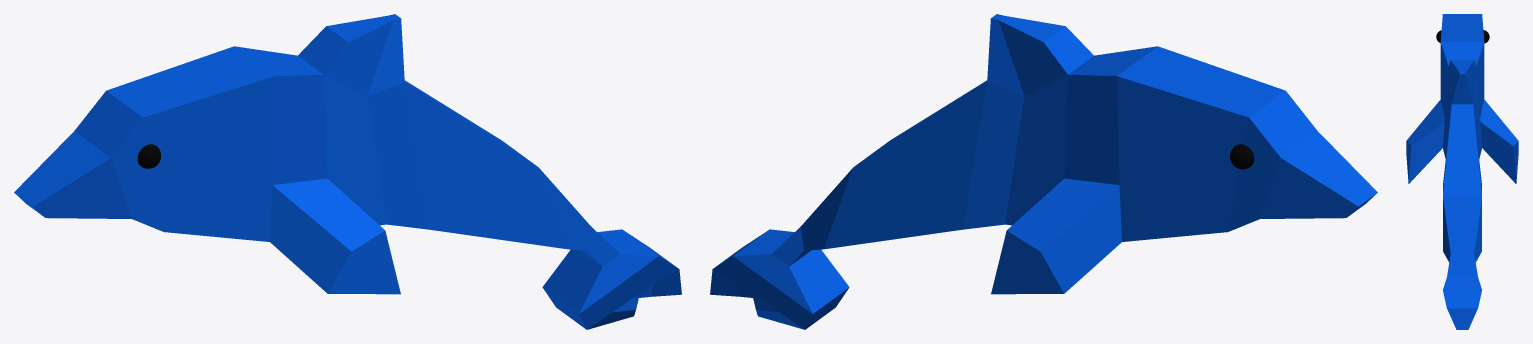
The model's file is Dolphin Joined.fbx.
3 renders of one model, left to right at view 1: azimuth 30°, elevation 25°; view 2: azimuth 150°, elevation 25°; view 3: azimuth 270°, elevation 25°, orthographic. The views are drawn at different scales.
Visible parts, largest first — view 1: Cube; view 2: Cube; view 3: Cube.
Boxes of the visible parts, box(x1,y1,x2,y2) form: Cube: box(14, 14, 681, 329); Cube: box(710, 14, 1377, 329); Cube: box(1406, 14, 1518, 329).
Bounding box in the file's own units: 1170 × 605 × 326.
